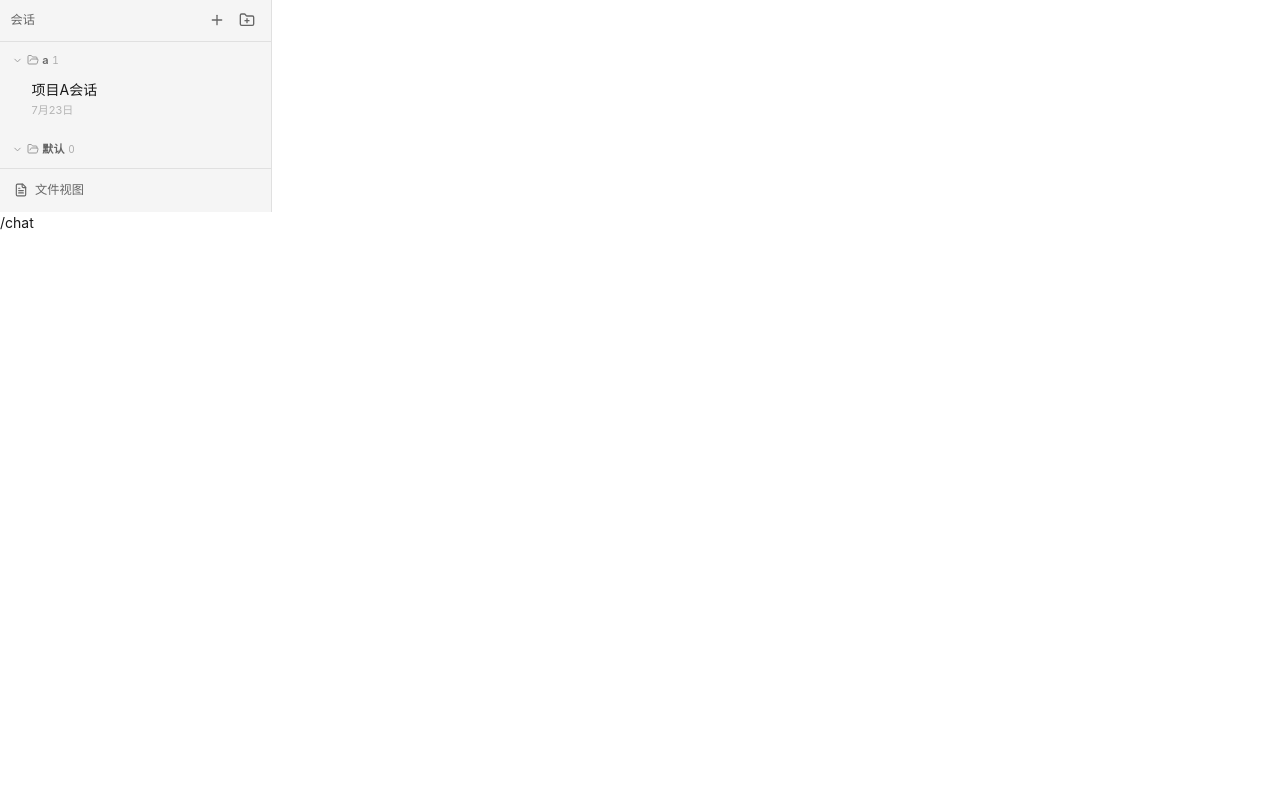
Scenario: SessionList › 添加新工作区后左栏立即出现新分组（已有会话时也不覆盖）
The image size is (1280, 800).
expect the button named "分组 a" is shown: met, box [12,53,59,67]
# 添加新工作区：目录选择器 → 选目录
Click the button named "新目录" at (247, 20), box [234,7,260,34]
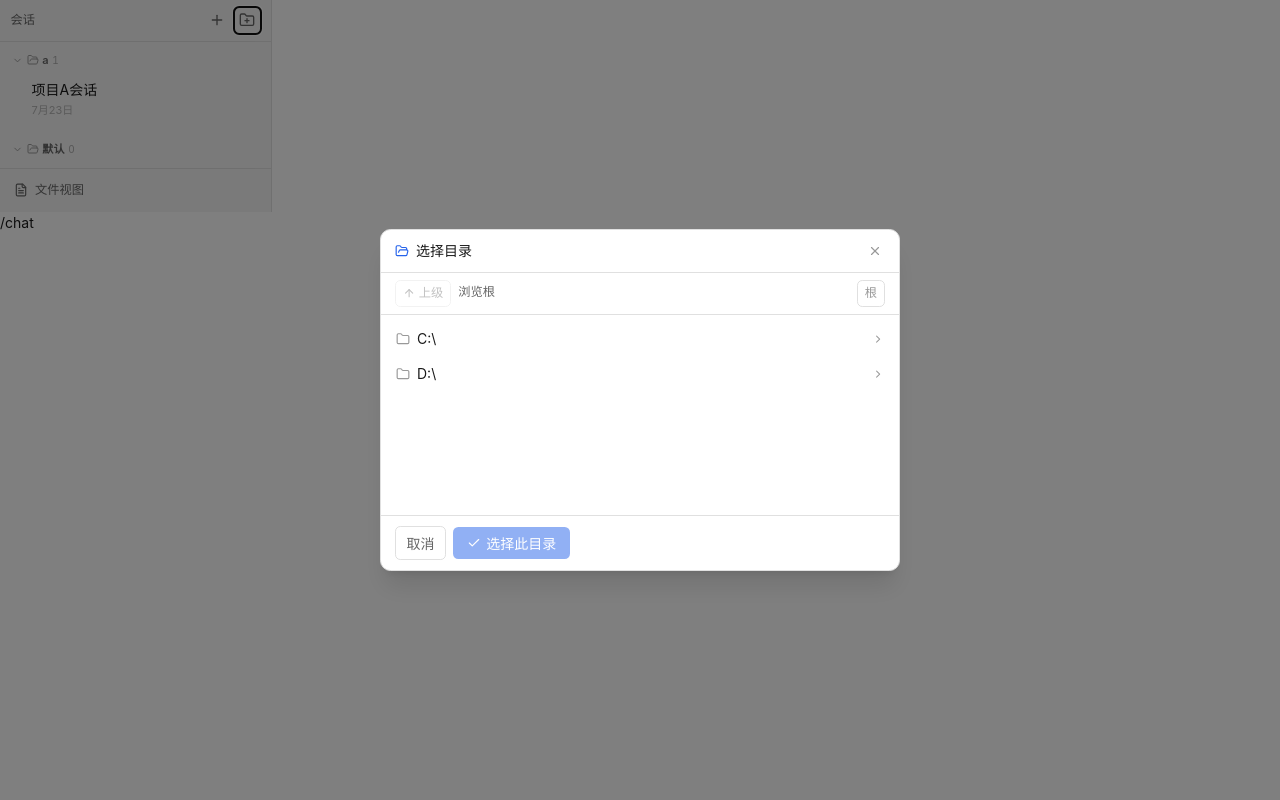
expect the button named "目录 C:\\" is shown: met
Double-click the button named "目录 C:\\" at (403, 339), box [388,322,892,355]
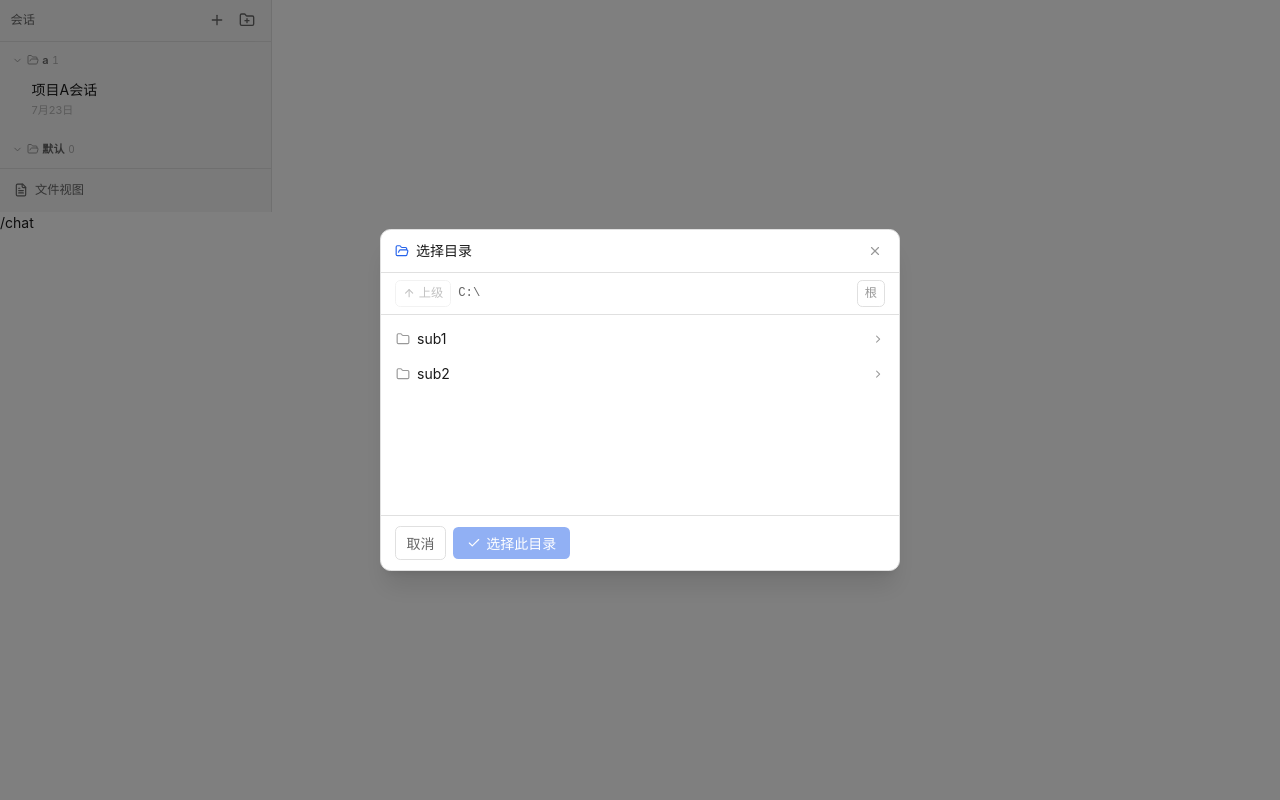
Click the button with aria-label "目录 sub1" at (403, 339), box [388,322,892,355]
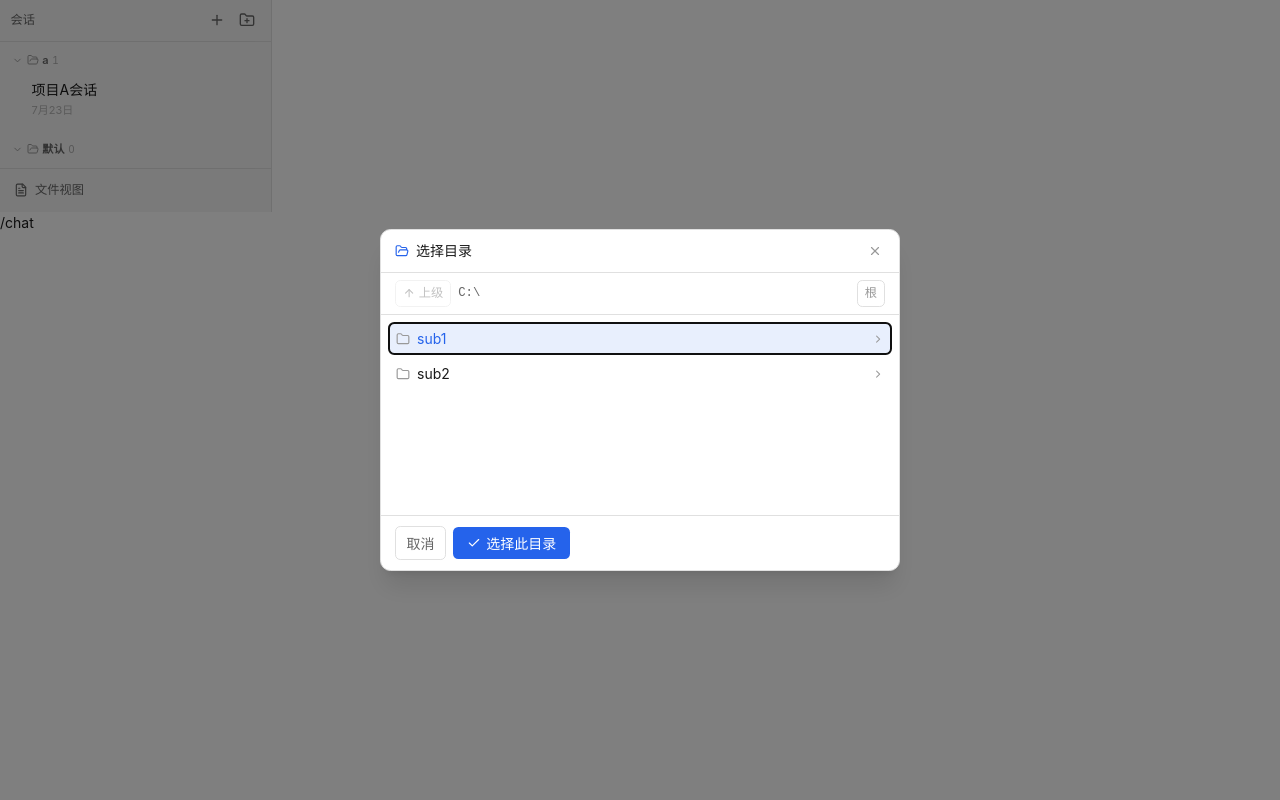
Click the button with aria-label "确认选择" at (512, 543), box [453,527,570,559]
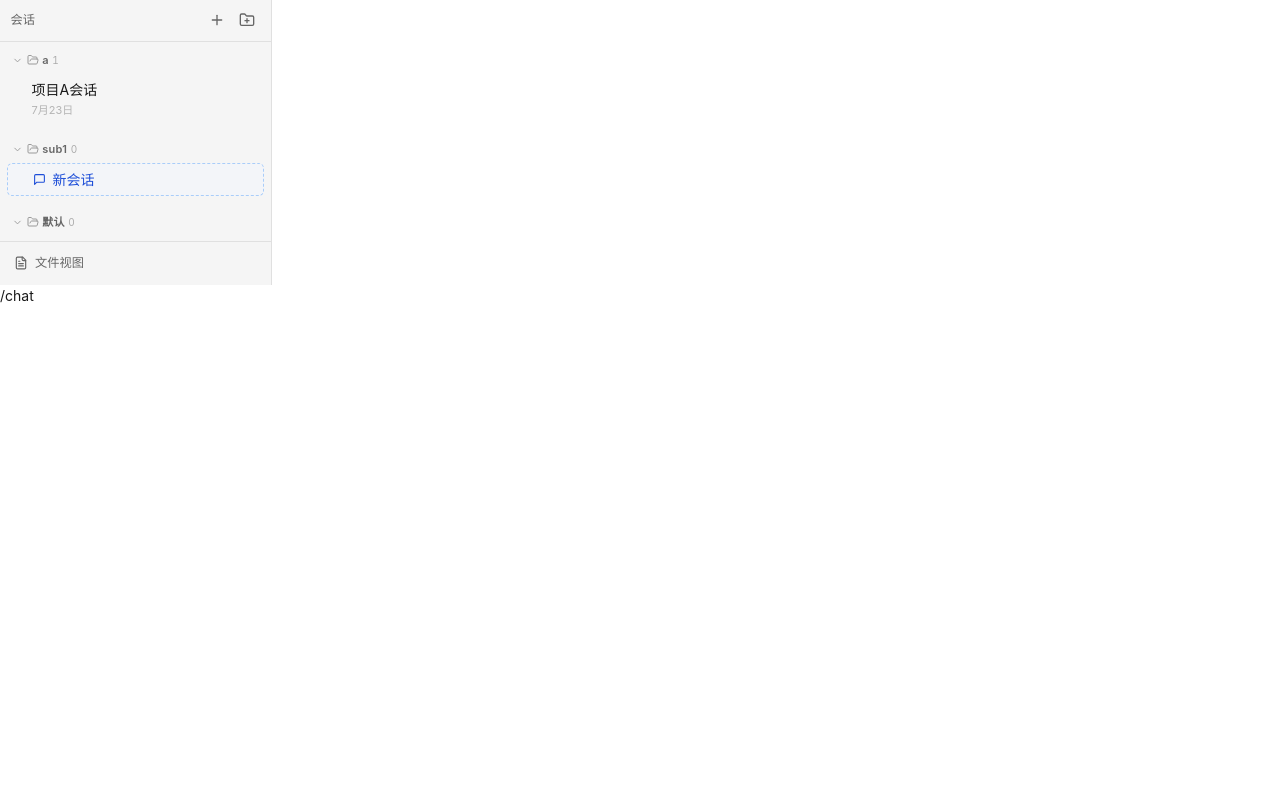
expect the button named "分组 a" is shown: met, box [12,53,59,67]
expect the button with aria-label "分组 sub1" is shown: met, box [12,142,77,156]
expect the button "新会话" is shown: met, box [7,163,264,196]
